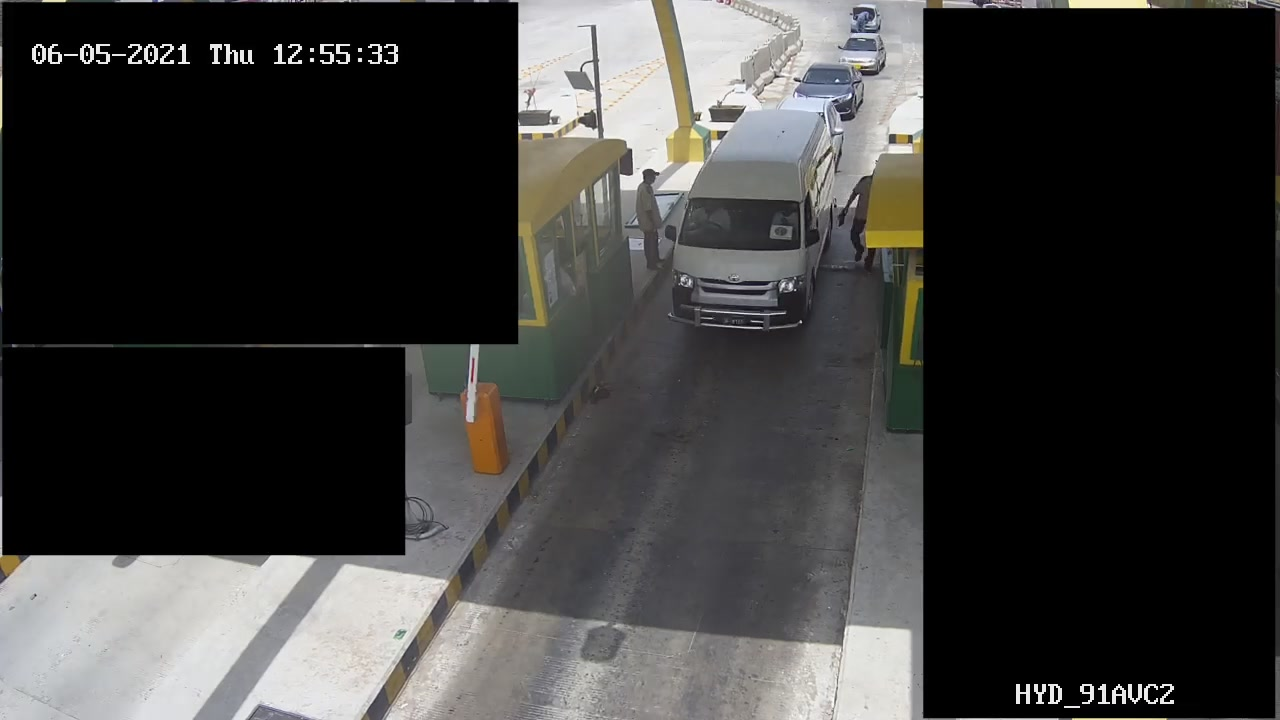F2: (657, 102, 843, 337)
